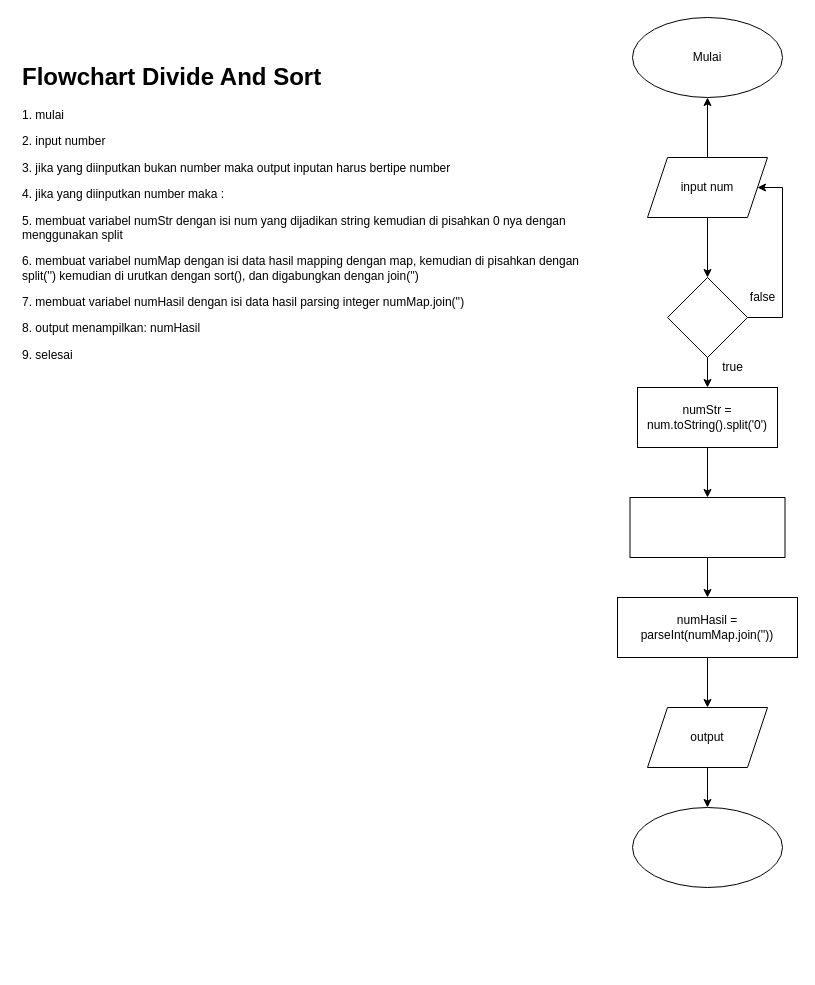
This 815x985 diagram has some shape labels left out. The shapes that lost their labels are listed below. From the top down, each one's box as (x1, y1, x2, y2) in pixels, then its label:
(666, 276, 748, 358): num !== number
(629, 496, 785, 558): numMap = numStr.map(item=> item.split('').sort().join(''))
(632, 806, 782, 888): Selesai
